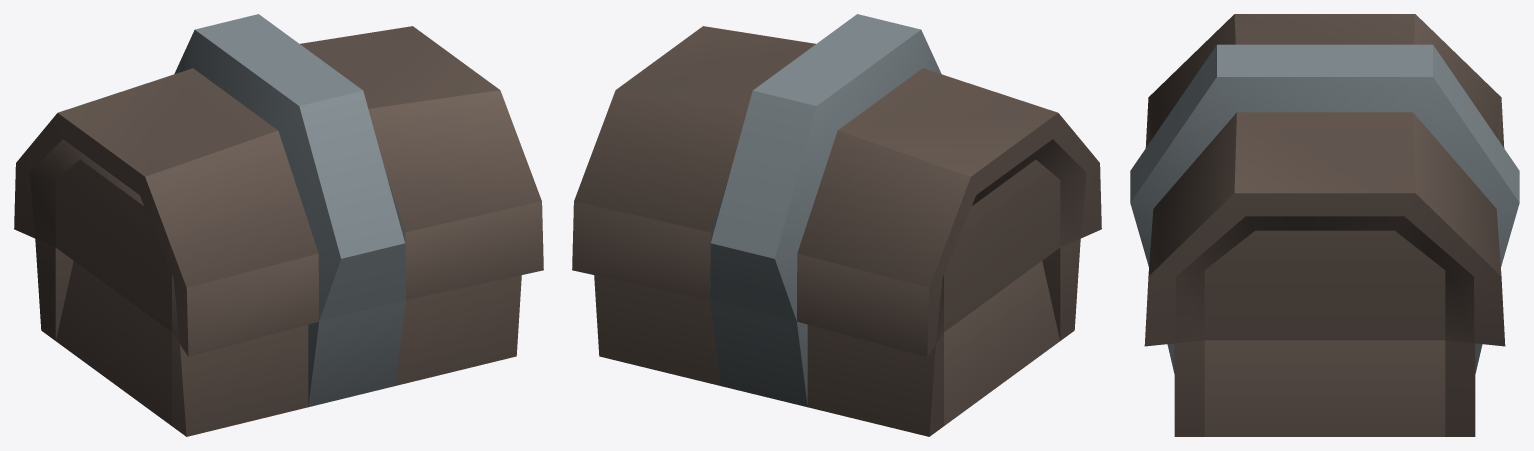
File: trunk_medium_b.gltf
3 views of the same model, side by side, from view 1: azimuth 30°, elevation 25°; view 2: azimuth 150°, elevation 25°; view 3: azimuth 270°, elevation 25° (orthographic). The views are drawn at different scales.
Parts seen in each view (by area): view 1: trunk_medium_B; view 2: trunk_medium_B; view 3: trunk_medium_B.
Part boxes in pixels (left/top/right/bottom): trunk_medium_B: left=14, top=14, right=543, bottom=436; trunk_medium_B: left=572, top=14, right=1101, bottom=436; trunk_medium_B: left=1130, top=14, right=1519, bottom=436.
Bounding box in the file's own units: 0.953 × 0.7265 × 0.8751.
Materials: 1 (1 with a texture image).
